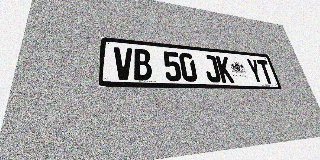0: (178, 52, 198, 82)
5: (163, 51, 182, 81)
B: (133, 48, 153, 81)
J: (202, 55, 222, 82)
K: (215, 56, 235, 83)
T: (256, 59, 275, 84)
V: (114, 47, 134, 80)
Y: (246, 58, 264, 84)
